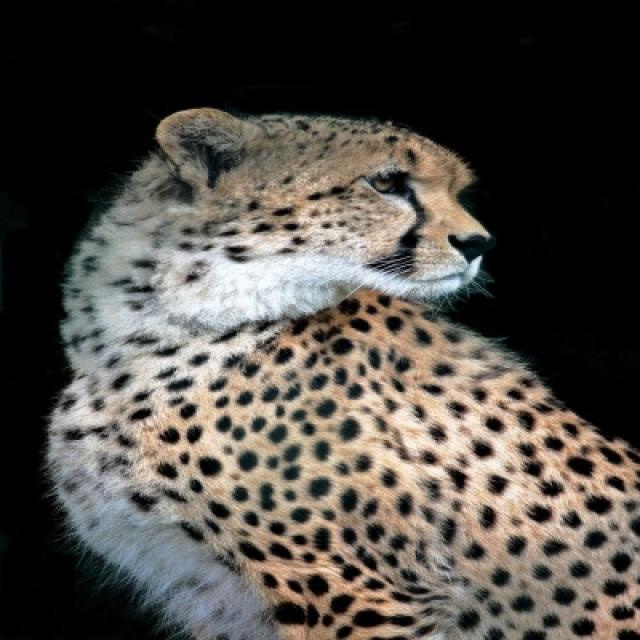Cheetah: (43, 107, 638, 638)
